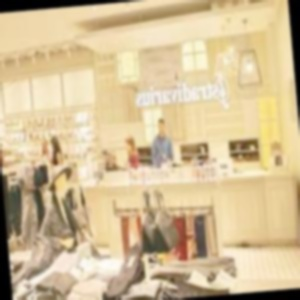stradivarius: (166, 36, 294, 108)
